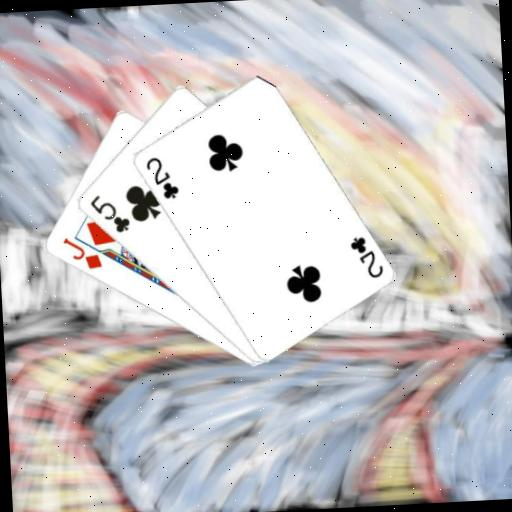2C: (142, 153, 181, 202), (346, 233, 385, 282)
5C: (86, 190, 132, 236)
JD: (60, 233, 104, 273)
